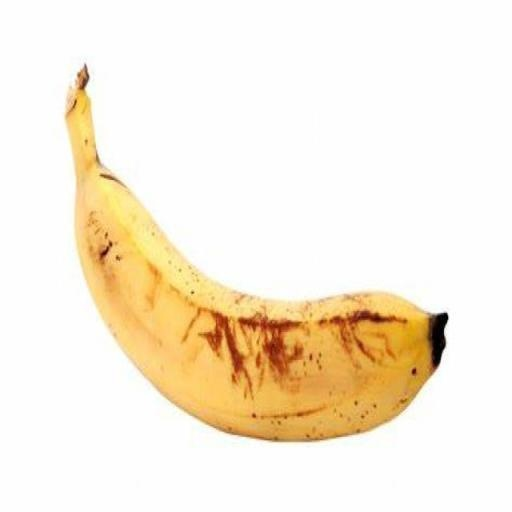fruit: (38, 46, 114, 288)
